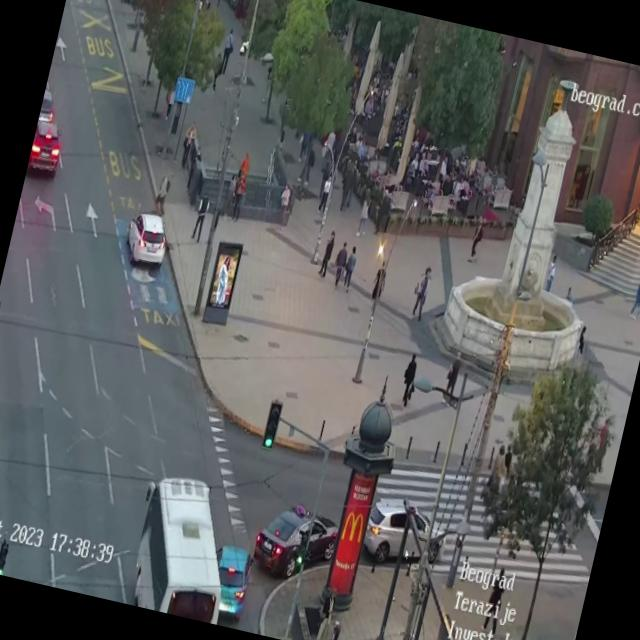bus: (120, 466, 247, 624)
car: (358, 490, 452, 576), (251, 502, 342, 577), (201, 542, 256, 622), (120, 208, 172, 270), (26, 114, 66, 178), (38, 88, 60, 123)
